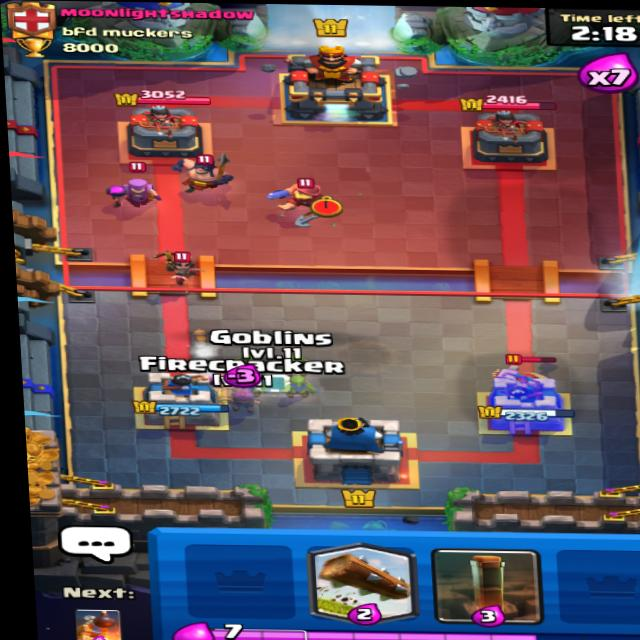executioner: (169, 136, 249, 198)
fisherman: (262, 174, 353, 221)
little-prince: (149, 240, 206, 286)
lumberjack: (491, 347, 560, 392)
mother-witch: (102, 162, 167, 211)
